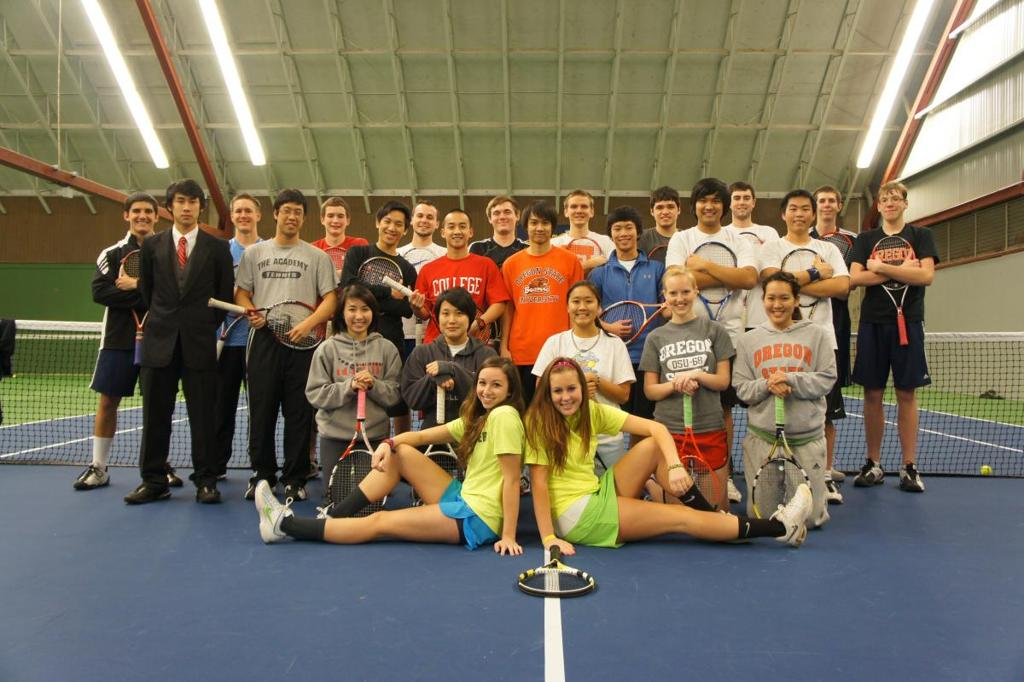face: (549, 369, 582, 415), (475, 366, 507, 408), (764, 283, 792, 324), (567, 287, 598, 324), (666, 275, 694, 314), (438, 300, 467, 337), (343, 296, 372, 332), (277, 201, 304, 235), (172, 192, 199, 225), (786, 194, 810, 231), (378, 209, 403, 244), (128, 201, 154, 234), (231, 198, 257, 231), (444, 213, 469, 247), (609, 220, 637, 250), (695, 191, 720, 221), (412, 204, 435, 236), (651, 199, 677, 227), (880, 189, 903, 220), (492, 201, 515, 232), (528, 212, 550, 243), (566, 197, 591, 223), (324, 205, 346, 234), (731, 190, 753, 217), (817, 192, 836, 219)
